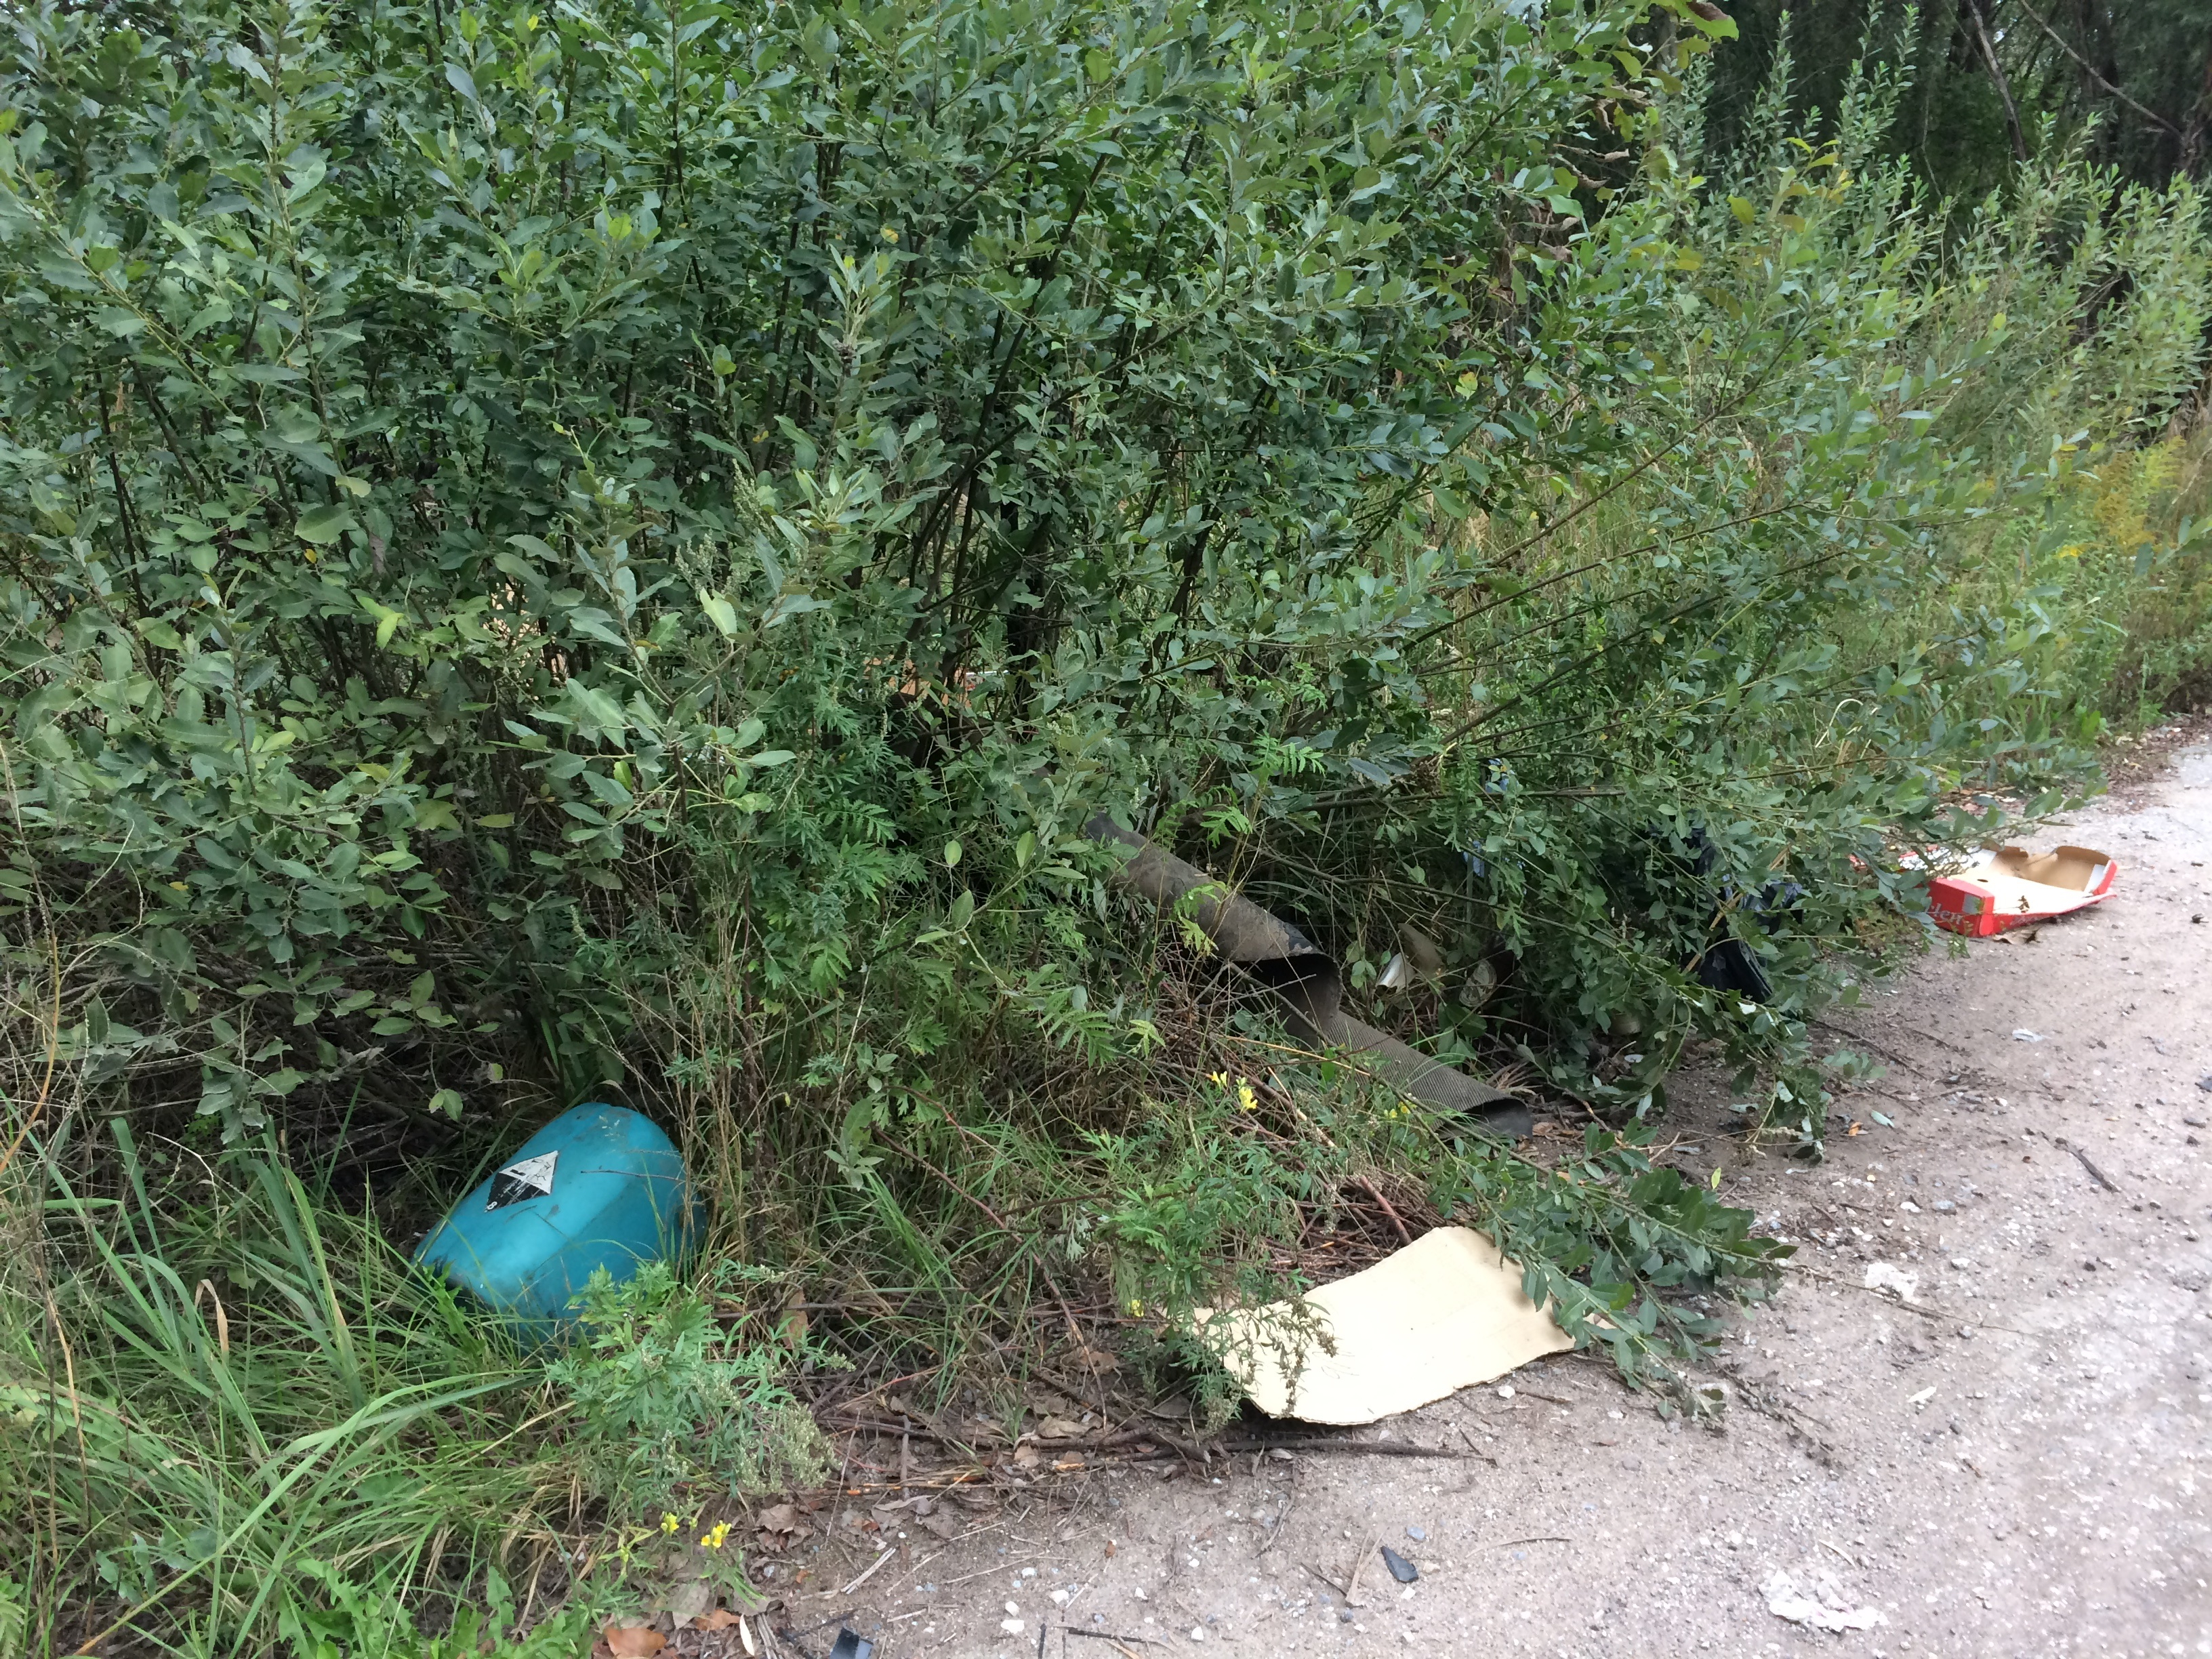trash: (1096, 1230, 1632, 1469), (397, 1037, 756, 1364), (1851, 798, 2135, 960)
